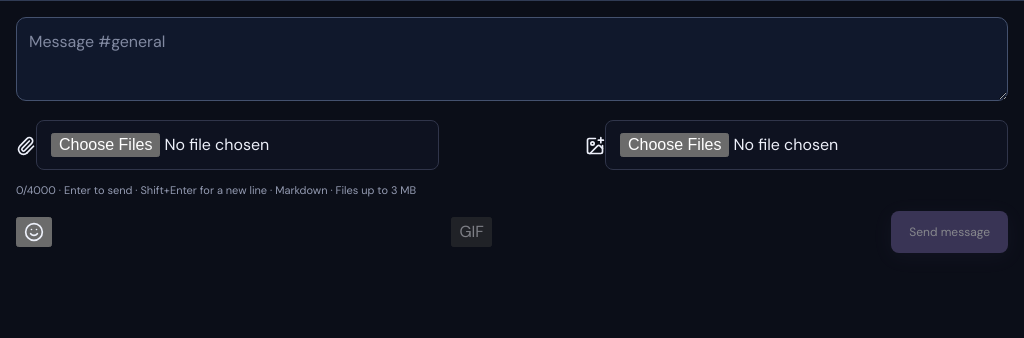
Test case: community composer › allows correcting a definite rejection, but never treats a denial after an uncertain send as proof of absence
In the text box named "Message general": (512, 59) top-left (16, 17), bottom-right (1008, 101), type "draft"
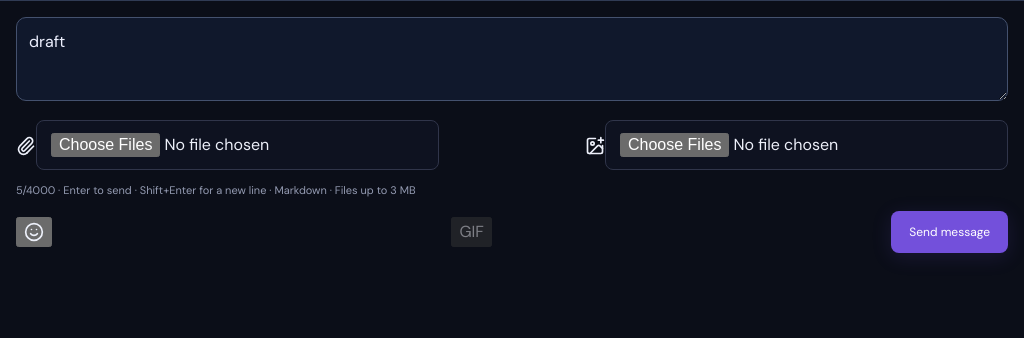
Click the button "Send message": (950, 232) top-left (891, 210), bottom-right (1008, 252)
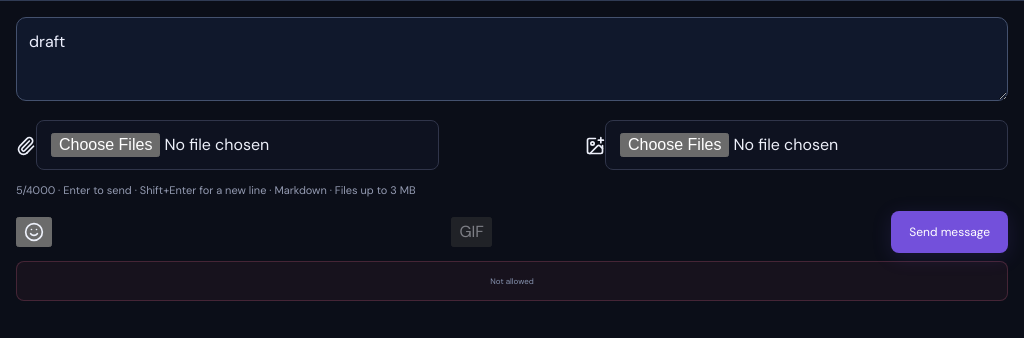
Check: the text box named "Message general" is enabled, box top-left (16, 17), bottom-right (1008, 101)
Check: the text "Not allowed" is shown, box top-left (16, 260), bottom-right (1008, 301)
Click the button "Send message": (950, 232) top-left (891, 210), bottom-right (1008, 252)
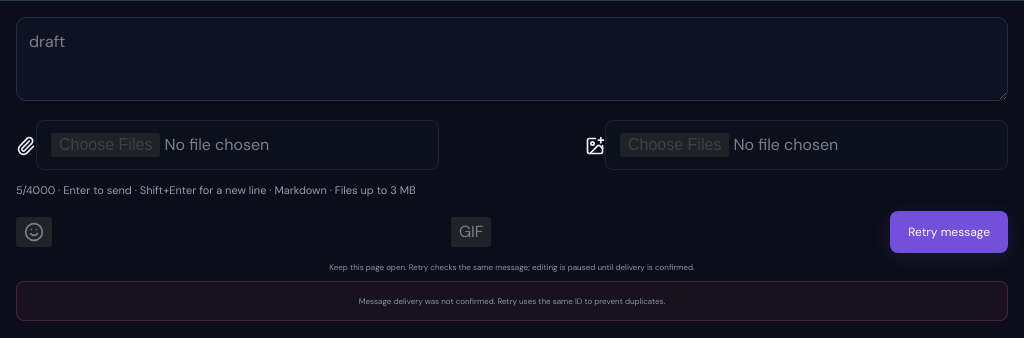
Check: the button "Retry message" is shown
Click the button "Retry message": (949, 232) top-left (890, 210), bottom-right (1008, 252)
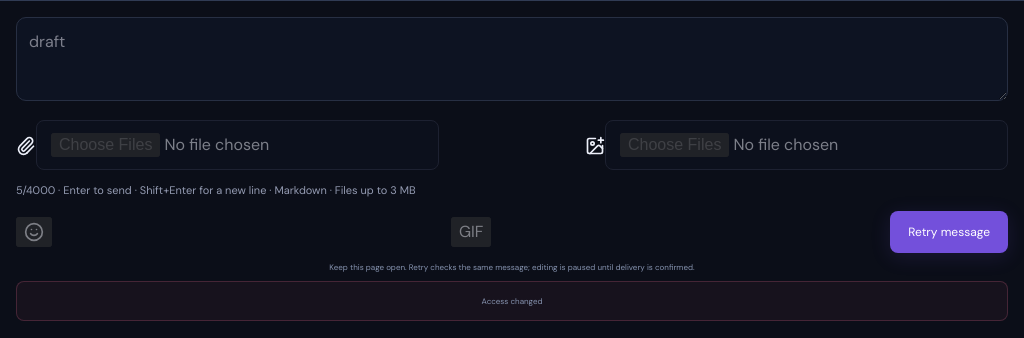
Check: the text box named "Message general" is disabled, box top-left (16, 17), bottom-right (1008, 101)
Check: the text "Access changed" is shown, box top-left (16, 280), bottom-right (1008, 321)
